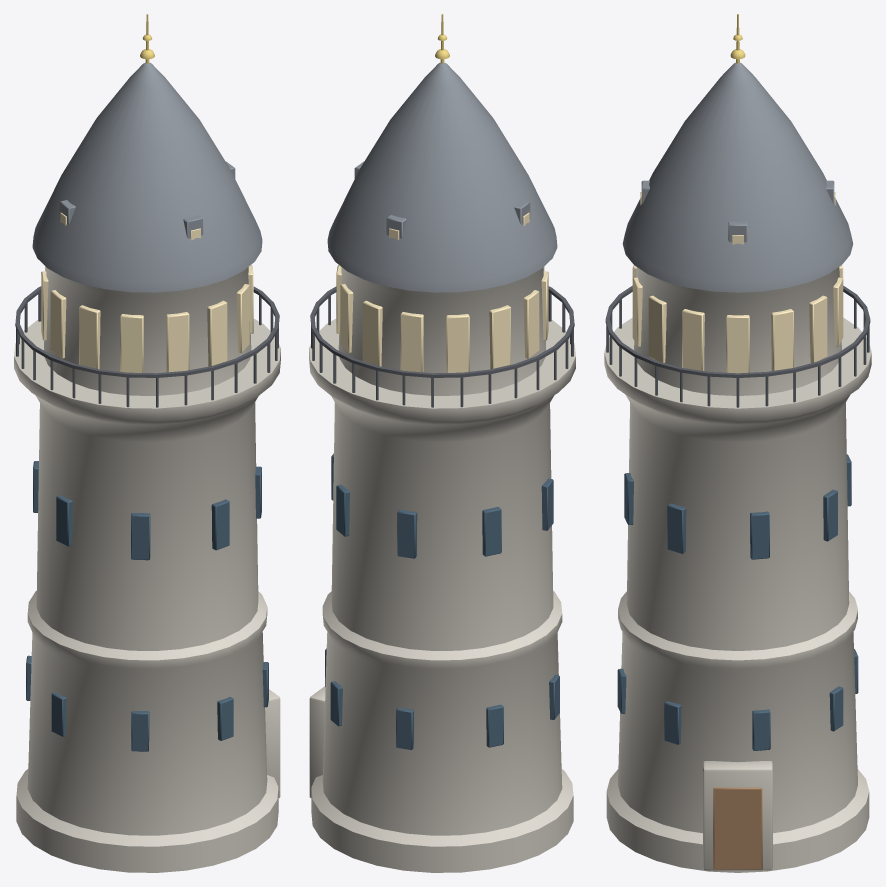
The model's file is Istanbul_GalataTower.fbx.
3 views of the same model, side by side, from view 1: azimuth 30°, elevation 25°; view 2: azimuth 150°, elevation 25°; view 3: azimuth 270°, elevation 25° (orthographic).
Visible parts, largest first — view 1: Istanbul_GalataTower; view 2: Istanbul_GalataTower; view 3: Istanbul_GalataTower.
Boxes of the visible parts, <box> form: Istanbul_GalataTower: <box>14,14,280,872</box>; Istanbul_GalataTower: <box>309,14,575,872</box>; Istanbul_GalataTower: <box>604,14,871,872</box>.
Size of the model in its own units: 7.91 by 25.98 by 7.84.
